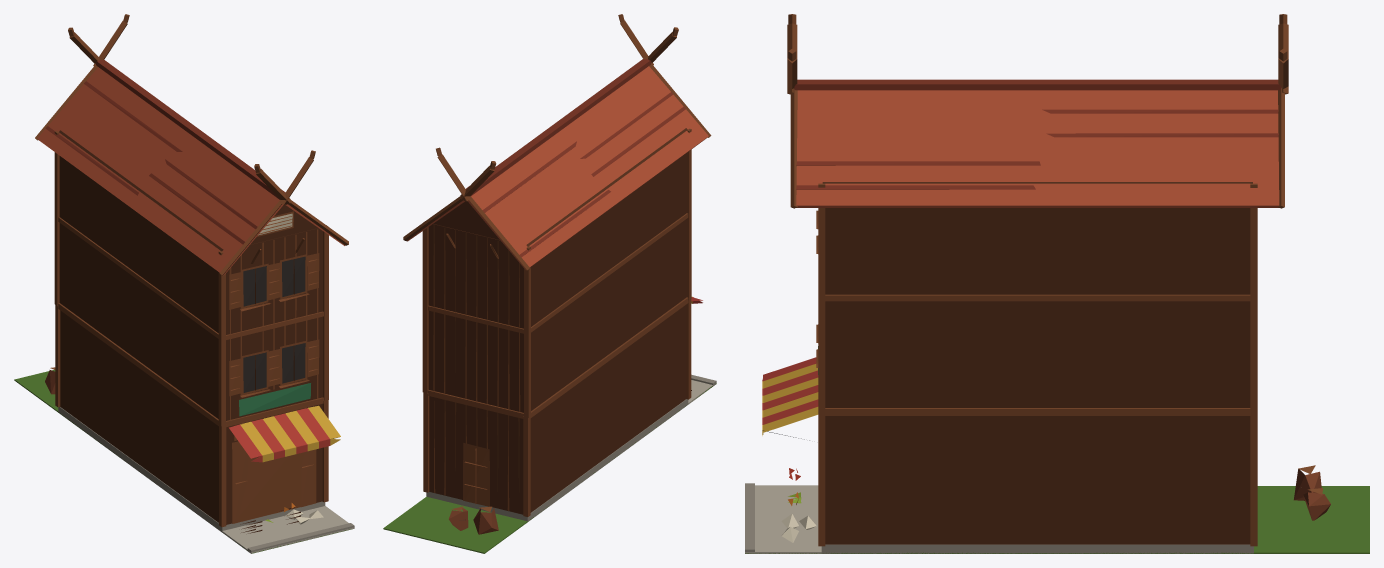
File: bay2_mid2.glb
3 renders of one model, left to right at view 1: azimuth 30°, elevation 25°; view 2: azimuth 150°, elevation 25°; view 3: azimuth 270°, elevation 25°, orthographic. The views are drawn at different scales.
Visible parts, largest first — view 1: body, windows; view 2: body; view 3: body.
Part boxes in pixels (left/top/right/bottom): body: left=14, top=14, right=354, bottom=553; windows: left=243, top=256, right=305, bottom=392; body: left=383, top=14, right=716, bottom=553; body: left=745, top=14, right=1369, bottom=553.
Size of the model in its own units: 5.02 by 13.74 by 15.9.
